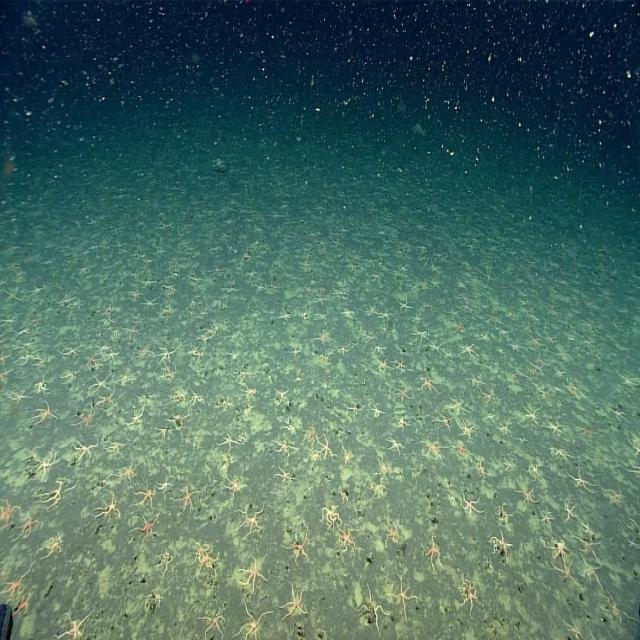brittle-stars: (392, 575, 420, 622), (240, 556, 269, 592), (238, 603, 266, 640), (97, 490, 121, 525), (283, 587, 308, 619), (459, 578, 478, 620), (566, 468, 596, 494), (58, 613, 86, 640), (133, 514, 159, 543), (202, 607, 226, 638), (238, 508, 264, 536), (284, 536, 310, 564), (196, 542, 217, 575), (423, 537, 443, 570), (338, 526, 360, 552), (34, 402, 56, 426), (74, 440, 98, 462), (516, 482, 538, 506), (564, 613, 583, 640), (448, 395, 471, 417), (322, 503, 341, 529), (223, 476, 246, 497), (522, 404, 542, 428), (462, 490, 479, 518), (178, 487, 196, 513), (78, 404, 95, 431), (35, 453, 54, 477), (43, 534, 62, 558), (375, 454, 390, 484), (492, 530, 508, 558), (221, 432, 241, 454), (546, 418, 567, 438), (458, 416, 474, 441), (272, 388, 292, 408), (137, 487, 156, 508), (274, 466, 296, 484), (420, 374, 438, 396), (393, 385, 412, 405), (20, 517, 38, 538), (160, 546, 173, 575), (564, 499, 579, 524), (319, 437, 334, 461), (275, 438, 293, 458), (458, 342, 476, 362), (120, 461, 136, 483), (538, 508, 554, 530), (315, 329, 334, 347), (386, 523, 400, 547), (189, 387, 205, 408), (129, 406, 144, 428), (91, 377, 110, 393), (368, 401, 384, 420), (158, 347, 175, 364), (157, 476, 173, 494), (389, 437, 404, 456), (34, 376, 48, 395), (394, 356, 408, 374), (160, 366, 175, 382)
